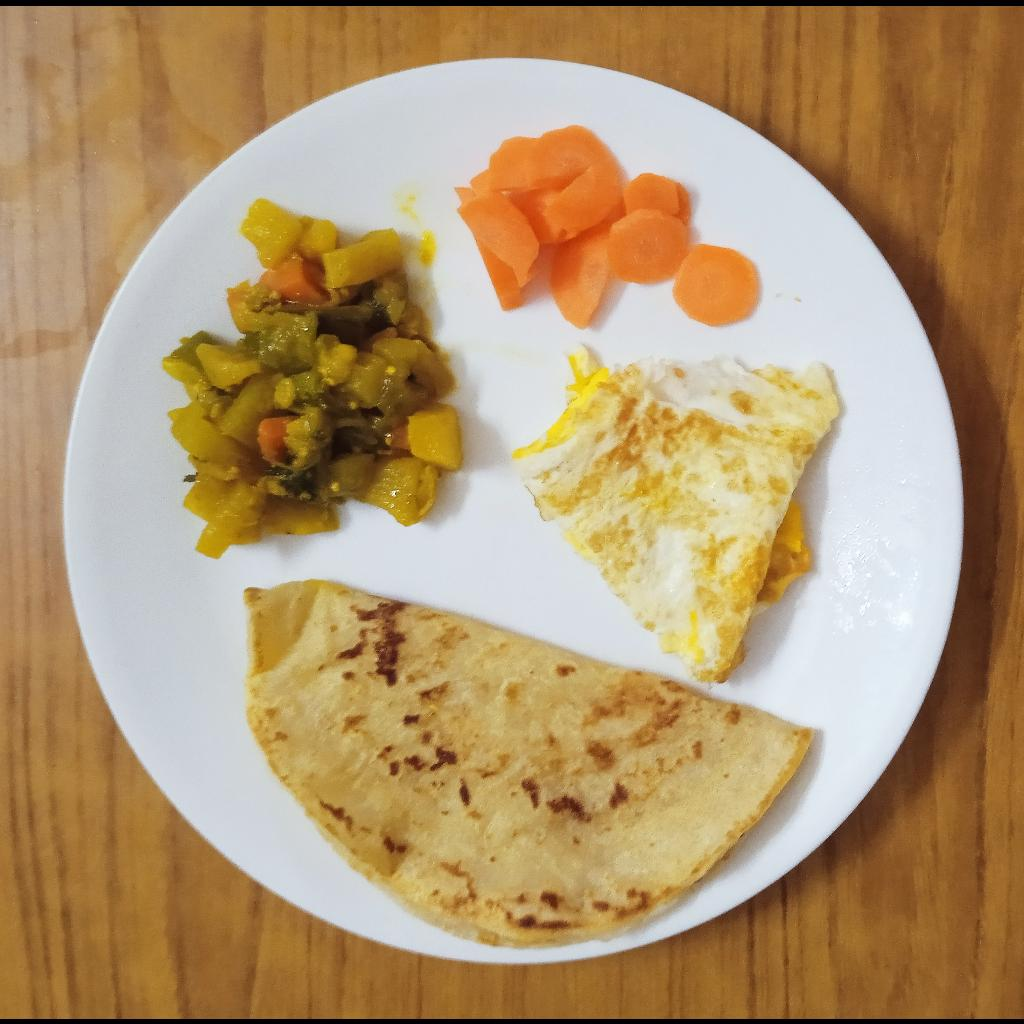carrot: (456, 120, 758, 334)
egg-poached: (512, 341, 843, 680)
ruti: (245, 578, 813, 949)
vegetable: (159, 198, 464, 560)
